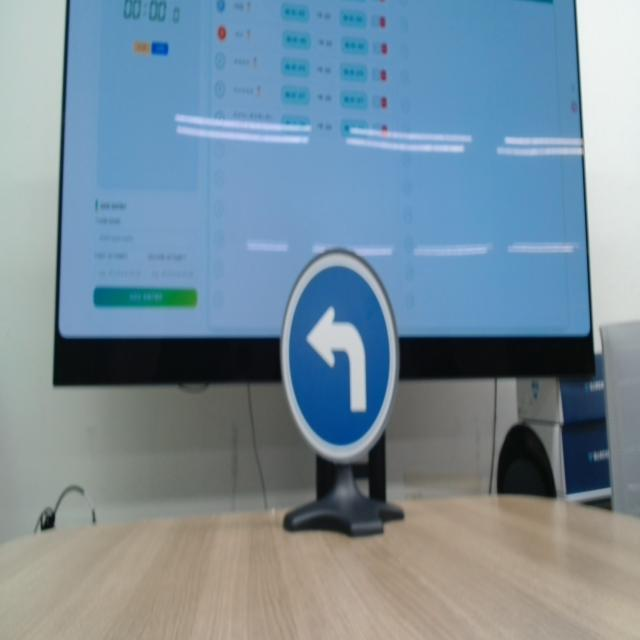left_direction: (275, 244, 408, 470)
